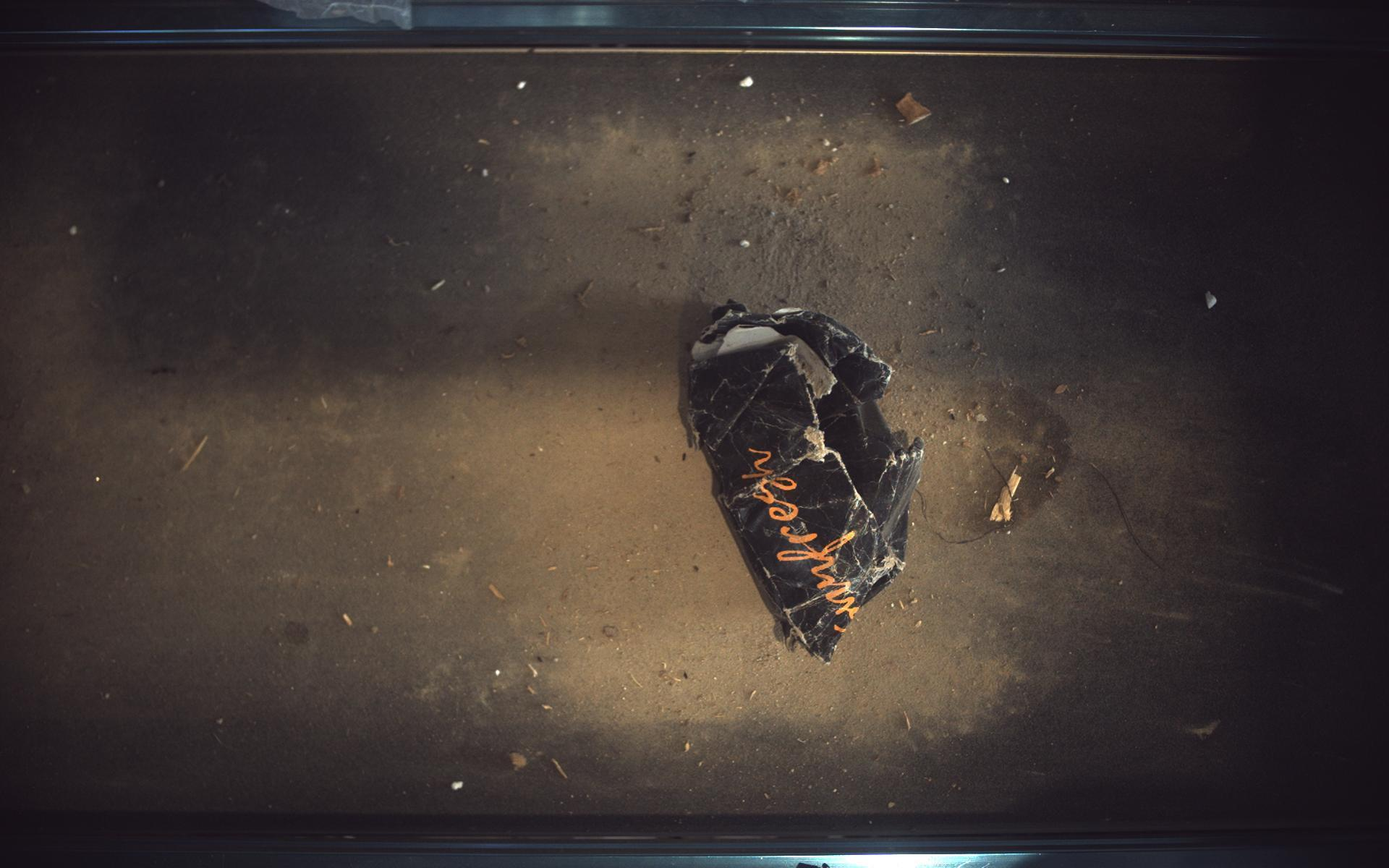general_w: (689, 300, 926, 662)
